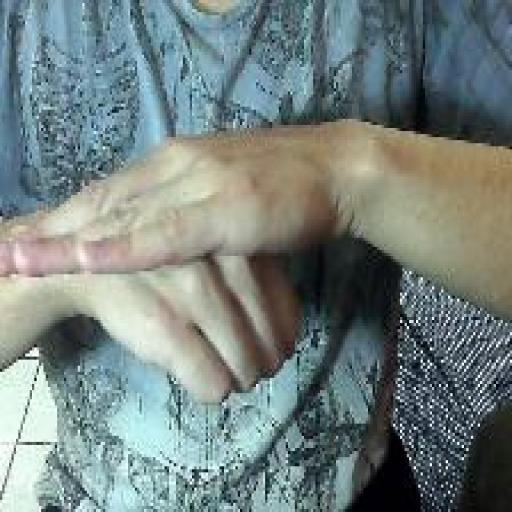Inu -dog-: (0, 127, 306, 411)
